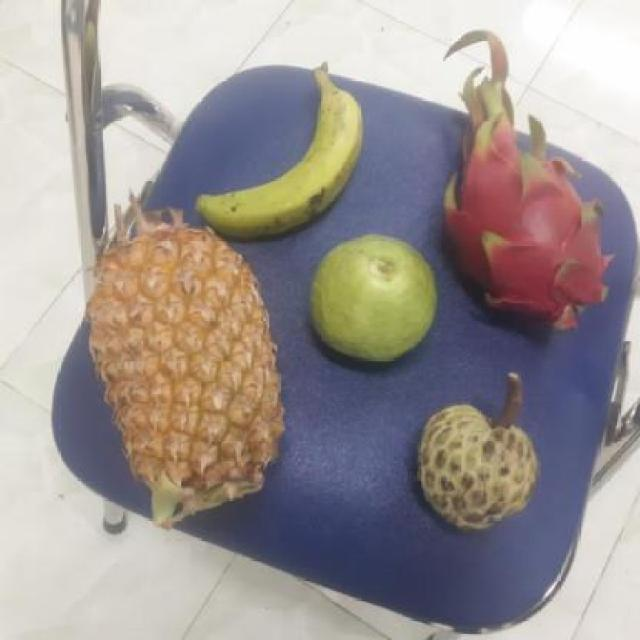banana: (197, 79, 361, 236)
dragon fruit: (432, 133, 602, 332)
guava: (302, 234, 436, 361)
pineapple: (77, 221, 280, 513)
sugar apple: (408, 398, 540, 532)
